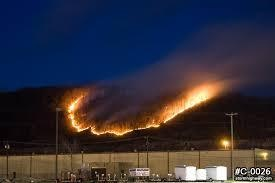fire: (66, 86, 220, 137)
